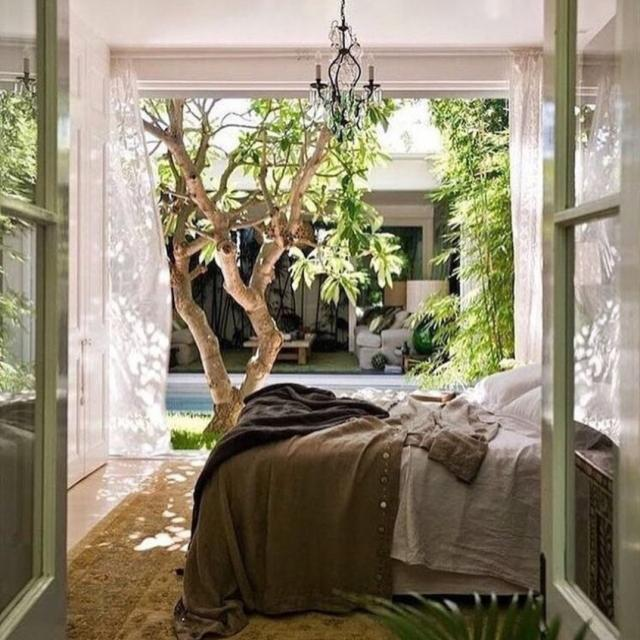bed: (202, 327, 538, 601)
